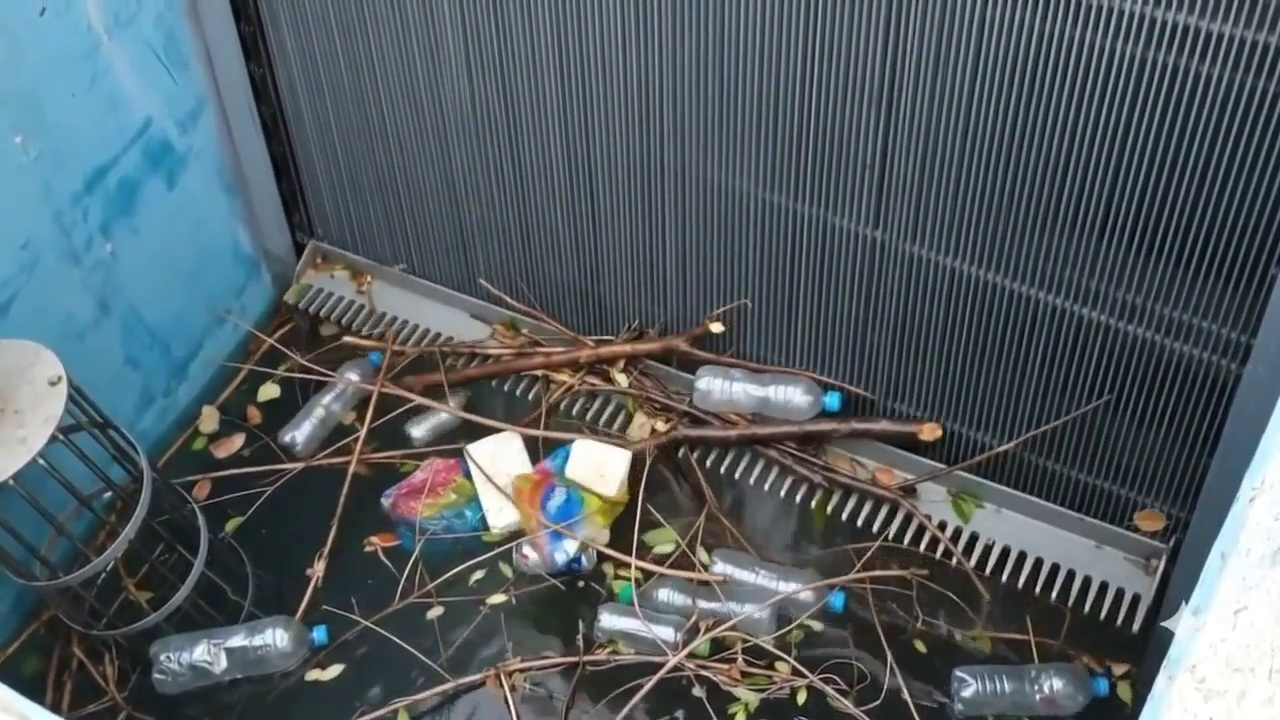debris: (277, 318, 942, 717), (511, 445, 624, 574), (151, 615, 329, 695), (277, 352, 383, 457), (707, 547, 847, 622), (615, 576, 780, 638), (380, 457, 485, 546), (950, 662, 1111, 717), (692, 364, 844, 420), (648, 418, 920, 446), (463, 431, 532, 531), (594, 602, 708, 656), (563, 439, 633, 501), (512, 533, 597, 575), (404, 409, 461, 447), (949, 491, 983, 523), (823, 446, 858, 474), (209, 433, 246, 458), (1133, 509, 1167, 533), (641, 525, 678, 547), (492, 319, 523, 344), (963, 629, 992, 654), (304, 663, 344, 681), (196, 405, 220, 434), (364, 532, 400, 551), (282, 283, 310, 304), (609, 360, 629, 388), (606, 566, 643, 581), (872, 466, 898, 487), (255, 381, 281, 402), (916, 422, 943, 442), (191, 478, 212, 502), (351, 271, 372, 293), (1116, 679, 1133, 706), (224, 516, 245, 535), (609, 579, 631, 597), (245, 404, 262, 426), (480, 531, 509, 543), (467, 568, 486, 585), (1108, 662, 1131, 676), (318, 322, 341, 336), (651, 543, 677, 555), (800, 618, 824, 631), (786, 628, 804, 645), (600, 560, 616, 579), (484, 593, 509, 605), (696, 545, 710, 566), (352, 462, 373, 476), (190, 435, 208, 451), (132, 590, 153, 603), (707, 320, 726, 334), (425, 605, 444, 619), (341, 410, 358, 425), (498, 561, 513, 578), (773, 660, 791, 674), (690, 683, 706, 698), (795, 685, 807, 705), (912, 637, 927, 653), (46, 374, 64, 386), (397, 462, 418, 472), (395, 707, 410, 719)
